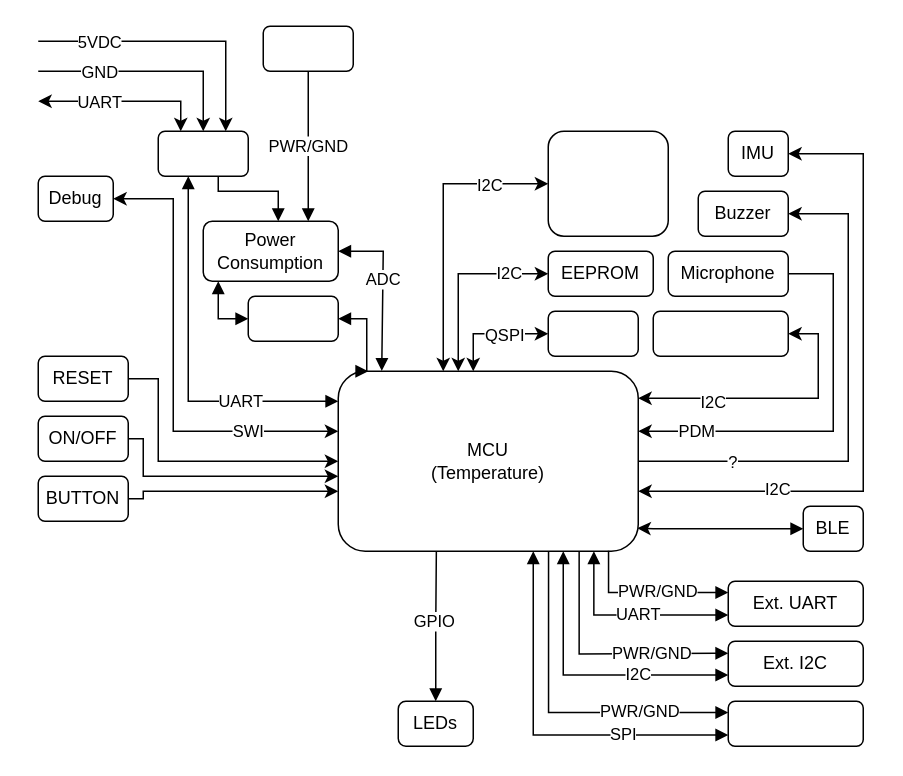
Some shapes in this 903 by 776 pixel diagram are drawn without their labels. The box of each missing label's shape, as (x1, y1, x2, y2) in pixels:
Battery: (262, 25, 353, 71)
Ext. SPI: (727, 700, 863, 746)
LDO: (247, 295, 338, 341)
Light Sensor: (652, 310, 788, 356)
SD Card: (547, 310, 638, 356)
Temperature & Humidity: (547, 130, 668, 236)
USB-C: (157, 130, 248, 176)
